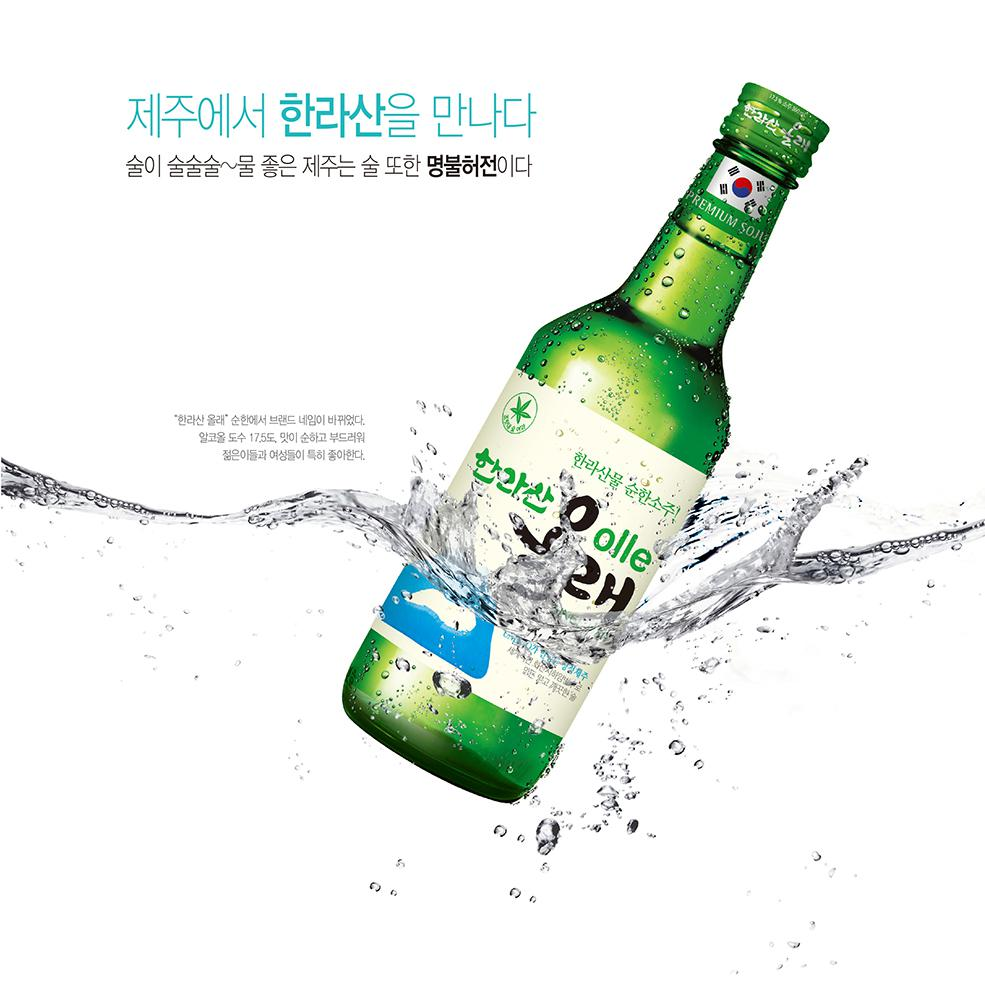soju: (335, 79, 841, 816)
